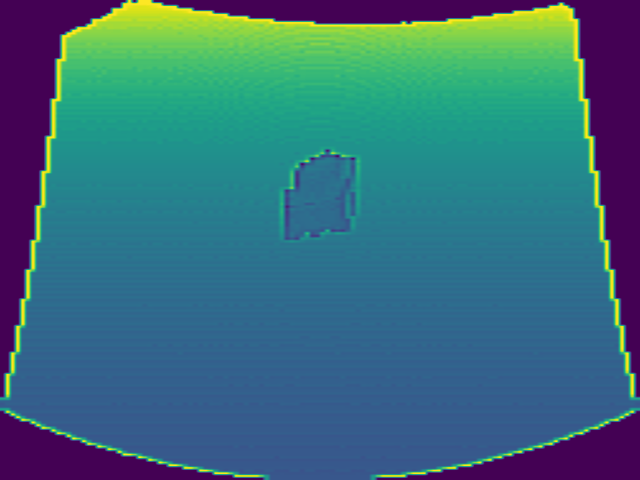car_0027: (275, 147, 363, 241)
